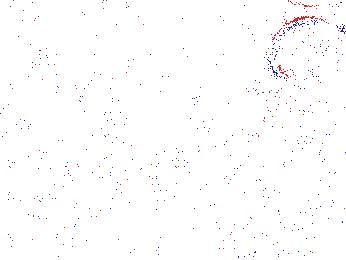moon jellyfish: (263, 17, 346, 100), (1, 72, 80, 126), (108, 12, 208, 54), (225, 88, 304, 140)
